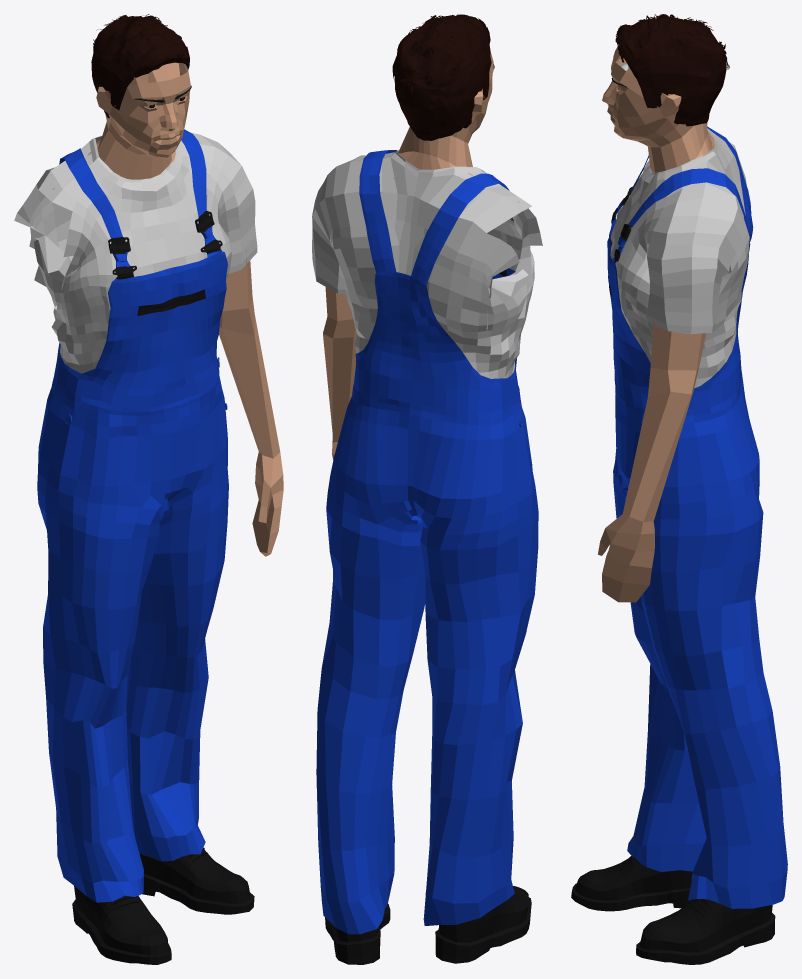
The model's file is corps02.obj.
3 views of the same model, side by side, from view 1: azimuth 30°, elevation 25°; view 2: azimuth 150°, elevation 25°; view 3: azimuth 270°, elevation 25° (orthographic).
Parts seen in each view (by area): view 1: Worker; view 2: Worker; view 3: Worker.
Part boxes in pixels (x1,y1,x2,y2): Worker: [14, 14, 283, 964]; Worker: [312, 14, 542, 964]; Worker: [571, 14, 787, 964].
Size of the model in its own units: 0.4725 by 1.83 by 0.3994.
